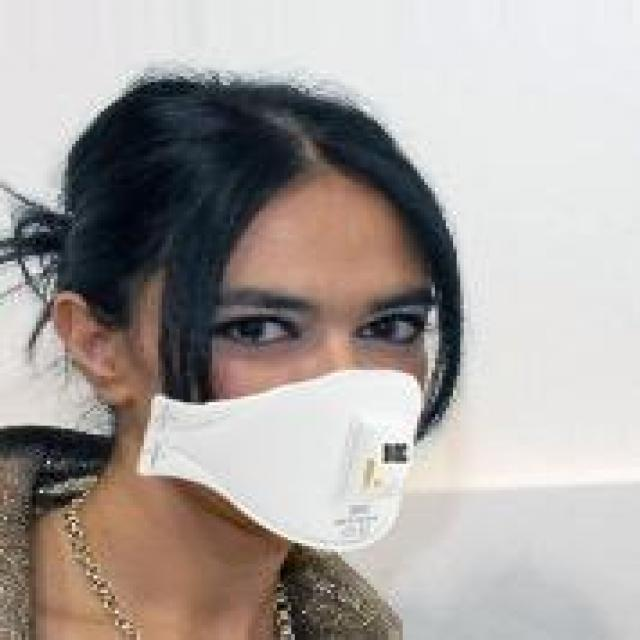mask: (100, 62, 492, 584)
